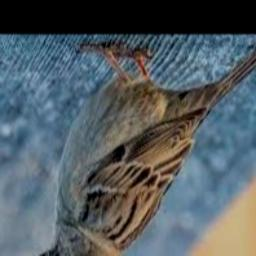Sparrow: (34, 44, 256, 256)
